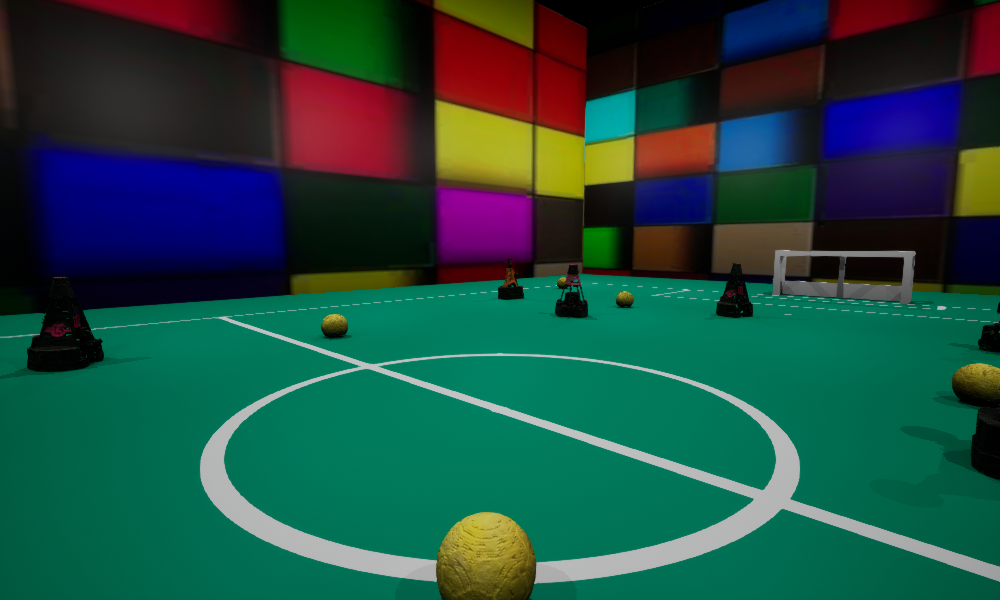b: (436, 512, 535, 599), (952, 363, 999, 406), (321, 314, 347, 337), (616, 291, 633, 307), (557, 277, 568, 287)
o: (971, 407, 999, 479), (978, 302, 999, 351), (498, 259, 523, 299)
p1: (27, 277, 103, 371), (716, 263, 752, 317)
p2: (555, 264, 587, 317)
